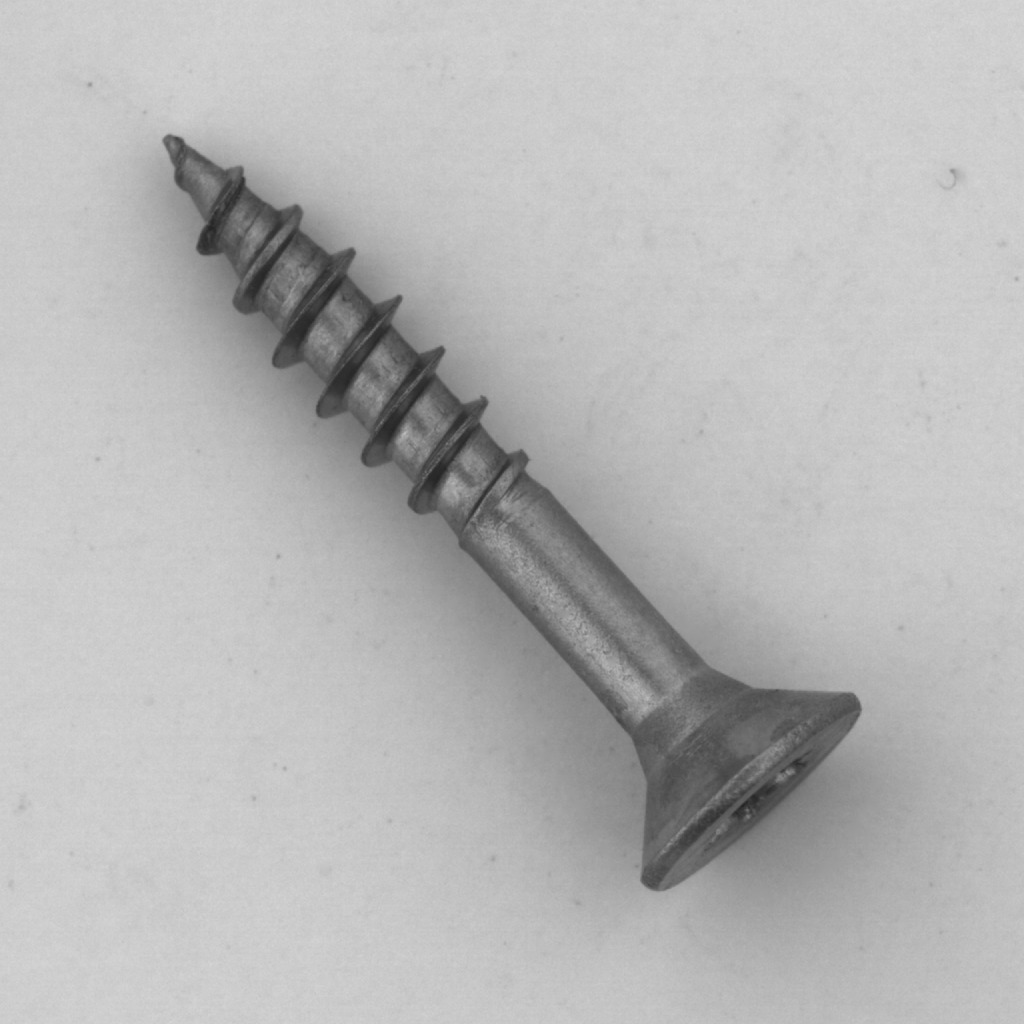good: (145, 107, 885, 913)
